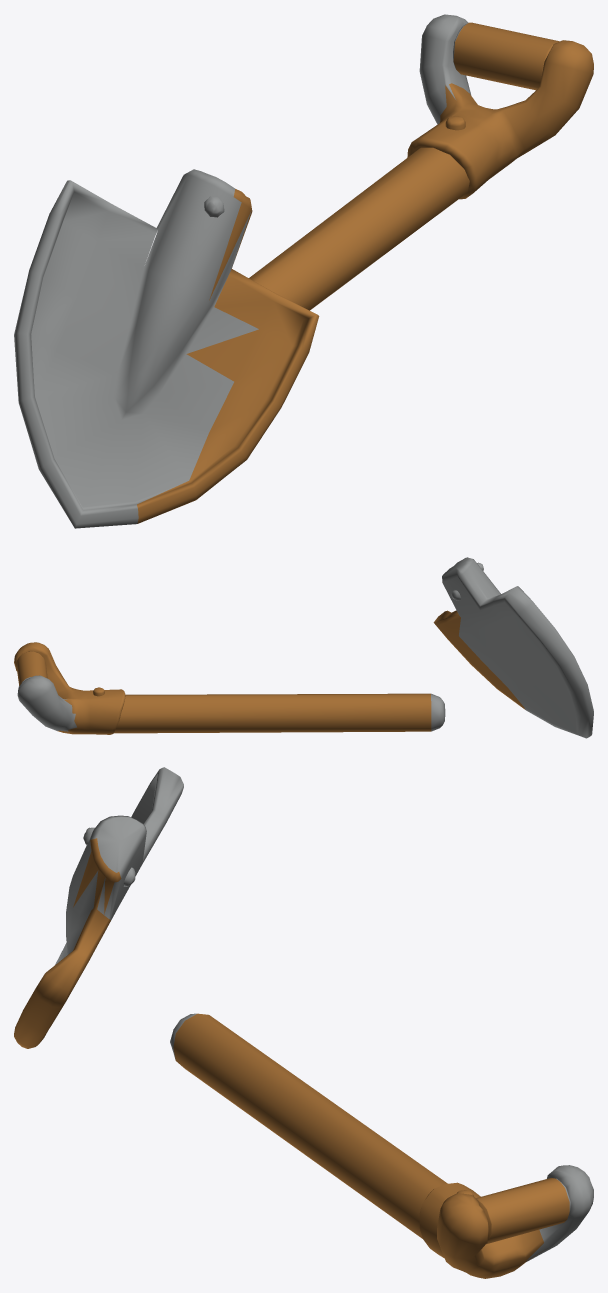
File: Shovel.glb
The picture shows the model from 3 angles, top to bottom: view 1: azimuth 30°, elevation 25°; view 2: azimuth 150°, elevation 25°; view 3: azimuth 270°, elevation 25°; orthographic projection. The views are drawn at different scales.
Visible parts, largest first — view 1: Shovel; view 2: Shovel; view 3: Shovel.
Boxes of the visible parts, box(x1,y1,x2,y2) form: Shovel: box(14, 14, 593, 528); Shovel: box(14, 557, 593, 738); Shovel: box(14, 767, 593, 1278).
Size of the model in its own units: 0.3496 by 0.1265 by 0.2451.
